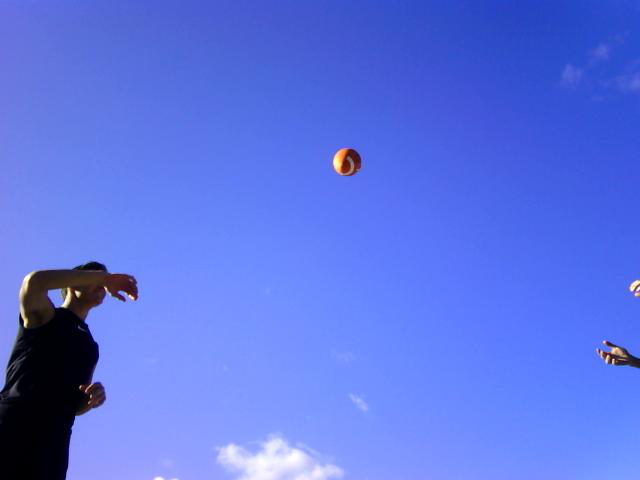football: (332, 144, 363, 178)
